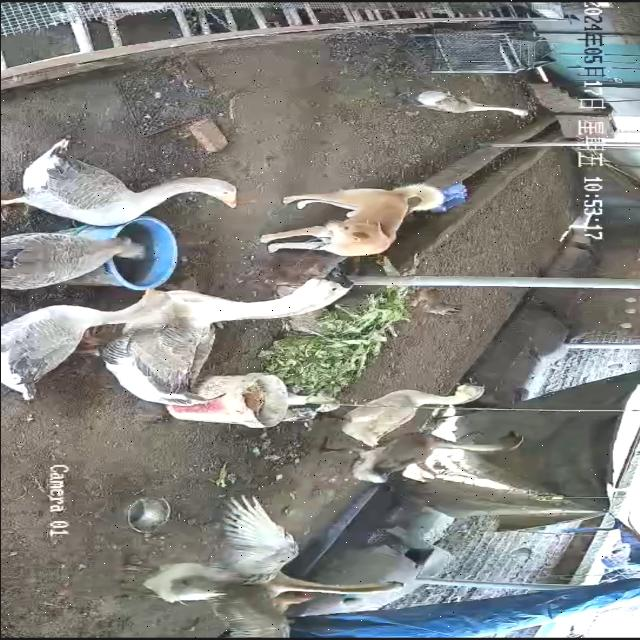dog: (258, 184, 446, 258)
